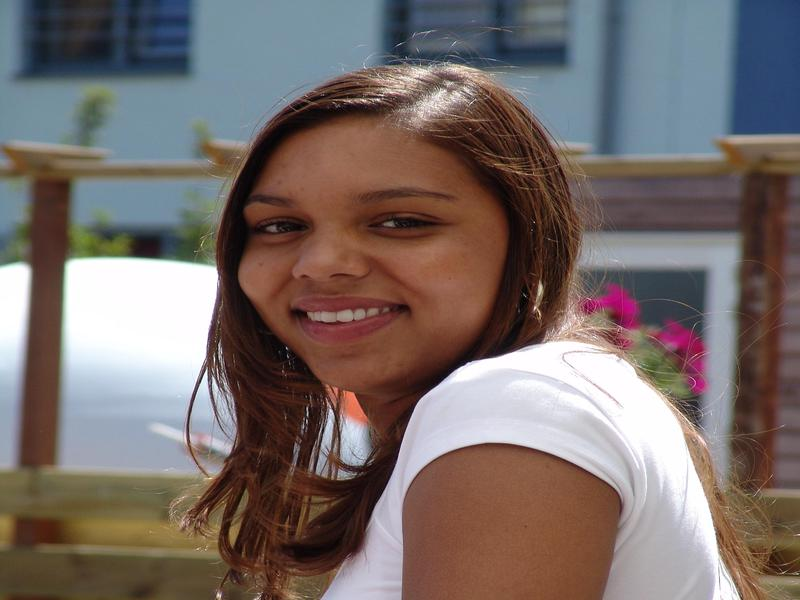person: (211, 50, 746, 600)
